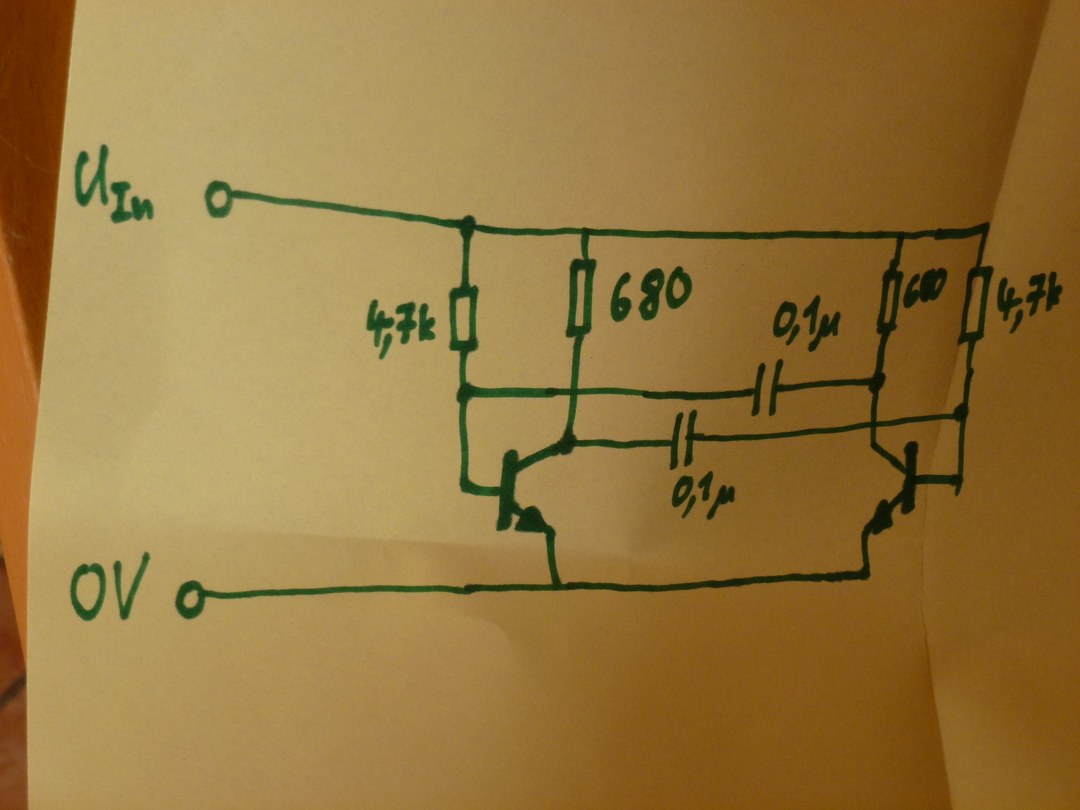capacitor.unpolarized: (747, 358, 787, 419), (666, 409, 701, 471)
crossover: (565, 383, 584, 400), (865, 418, 884, 433)
junction: (455, 213, 481, 241), (454, 380, 479, 406), (558, 429, 577, 460), (949, 400, 972, 425), (866, 370, 888, 396), (974, 216, 995, 241), (950, 469, 967, 497), (457, 475, 475, 498), (856, 563, 873, 584), (547, 578, 566, 596), (892, 227, 909, 246), (576, 224, 595, 240)
resistor: (955, 264, 996, 347), (564, 256, 598, 340), (446, 281, 481, 356), (874, 266, 904, 337)
terminal: (173, 577, 211, 621), (203, 179, 239, 220)
text: (72, 143, 156, 225), (69, 551, 151, 621), (608, 265, 694, 322), (364, 298, 438, 361), (771, 293, 842, 354), (996, 271, 1064, 333), (670, 470, 738, 521), (904, 268, 949, 308)
transistor: (496, 442, 558, 537), (862, 440, 921, 538)
